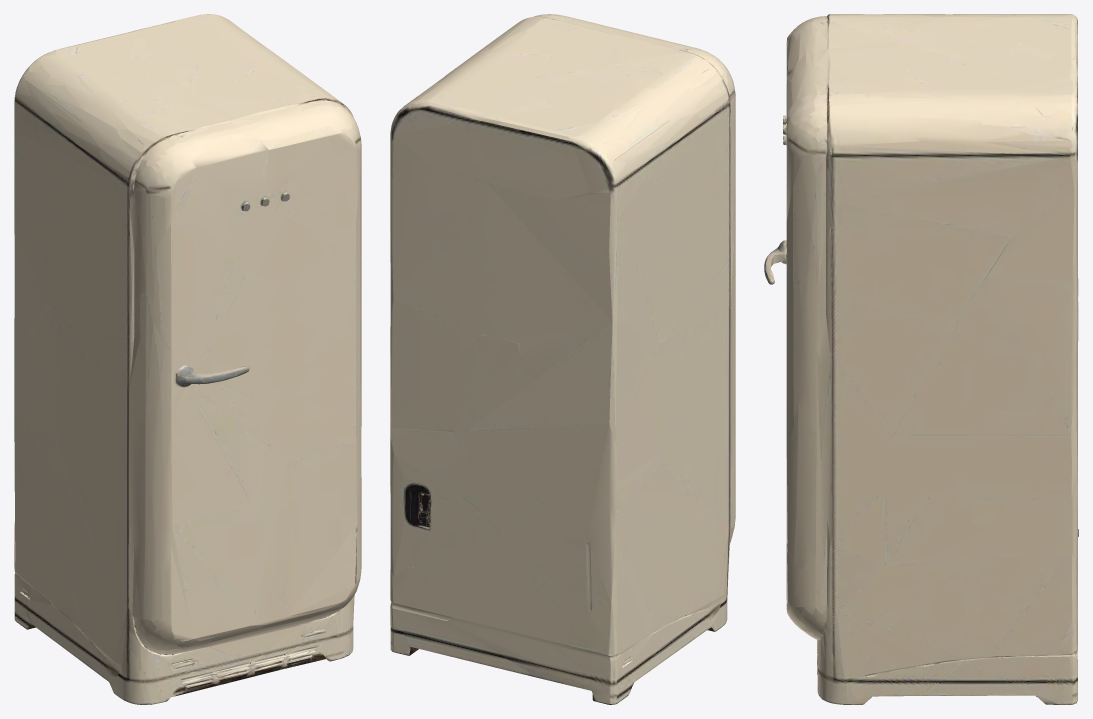
File: fridge.glb
The picture shows the model from 3 angles, left to right: view 1: azimuth 30°, elevation 25°; view 2: azimuth 150°, elevation 25°; view 3: azimuth 270°, elevation 25°; orthographic projection. The views are drawn at different scales.
Bounding box in the file's own units: 0.8089 × 1.9 × 0.9157.
Materials: 1 (1 with a texture image).
